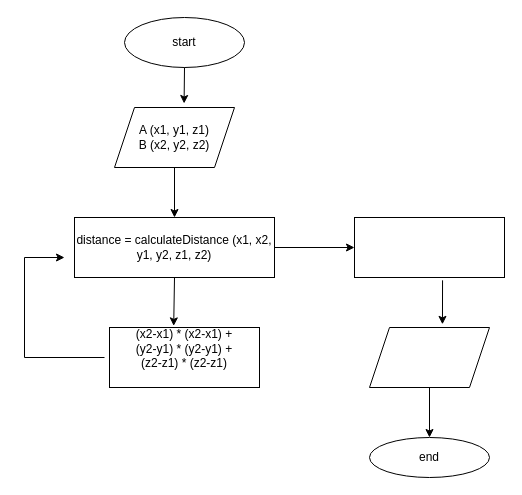
This 522x495 diagram has some shape labels left out. Here are the shapes that lost their labels. From the top down, the centre of each, then its label:
At [429,247]: "Round to 2 digits after coma".
At [429,357]: "distance".
